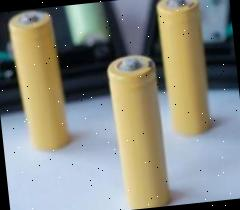electronic: (87, 34, 188, 210)
